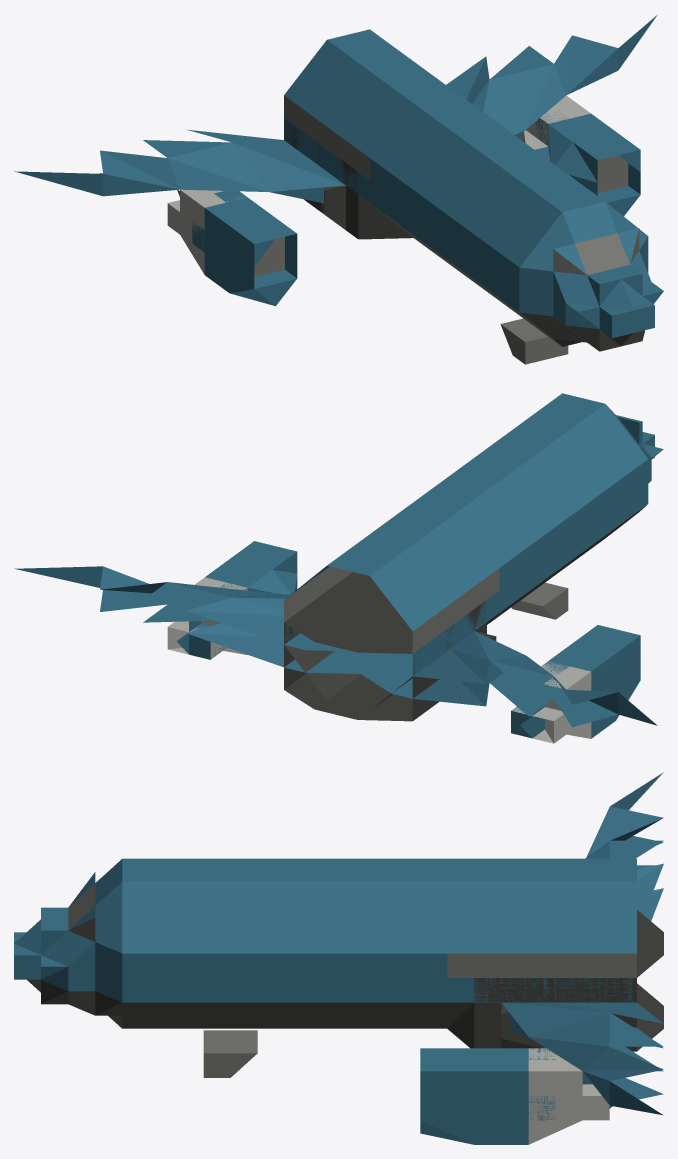
Rendered from staging_aircraft_fore_coarse.obj.
3 renders of one model, top to bottom at view 1: azimuth 30°, elevation 25°; view 2: azimuth 150°, elevation 25°; view 3: azimuth 270°, elevation 25°, orthographic. The views are drawn at different scales.
Size of the model in its own units: 17.47 by 4.66 by 13.98.
